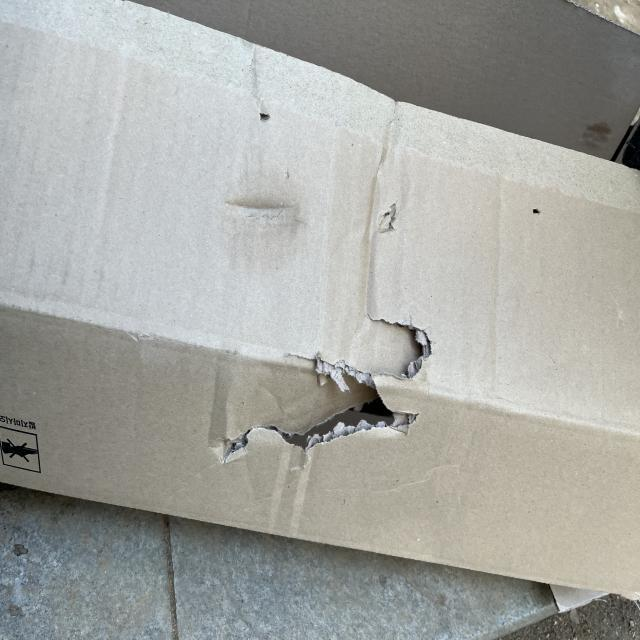hole: (245, 289, 434, 458)
